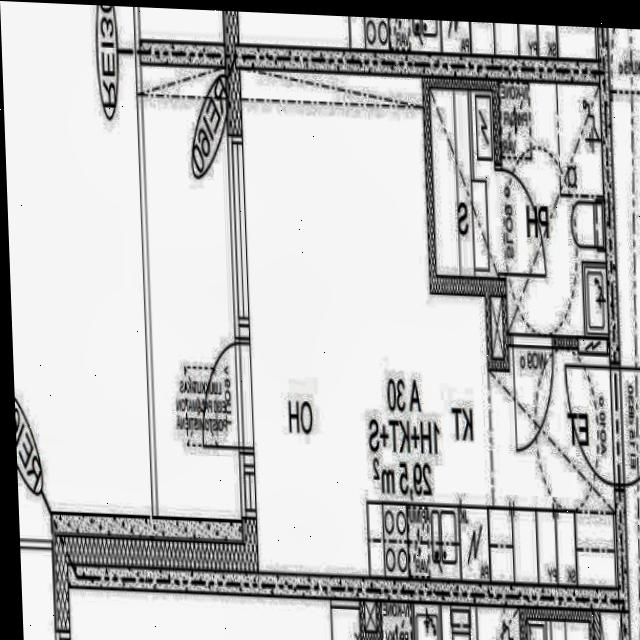room: (239, 55, 618, 598), (141, 61, 241, 523), (499, 78, 608, 341), (488, 343, 614, 517), (430, 85, 499, 279)
